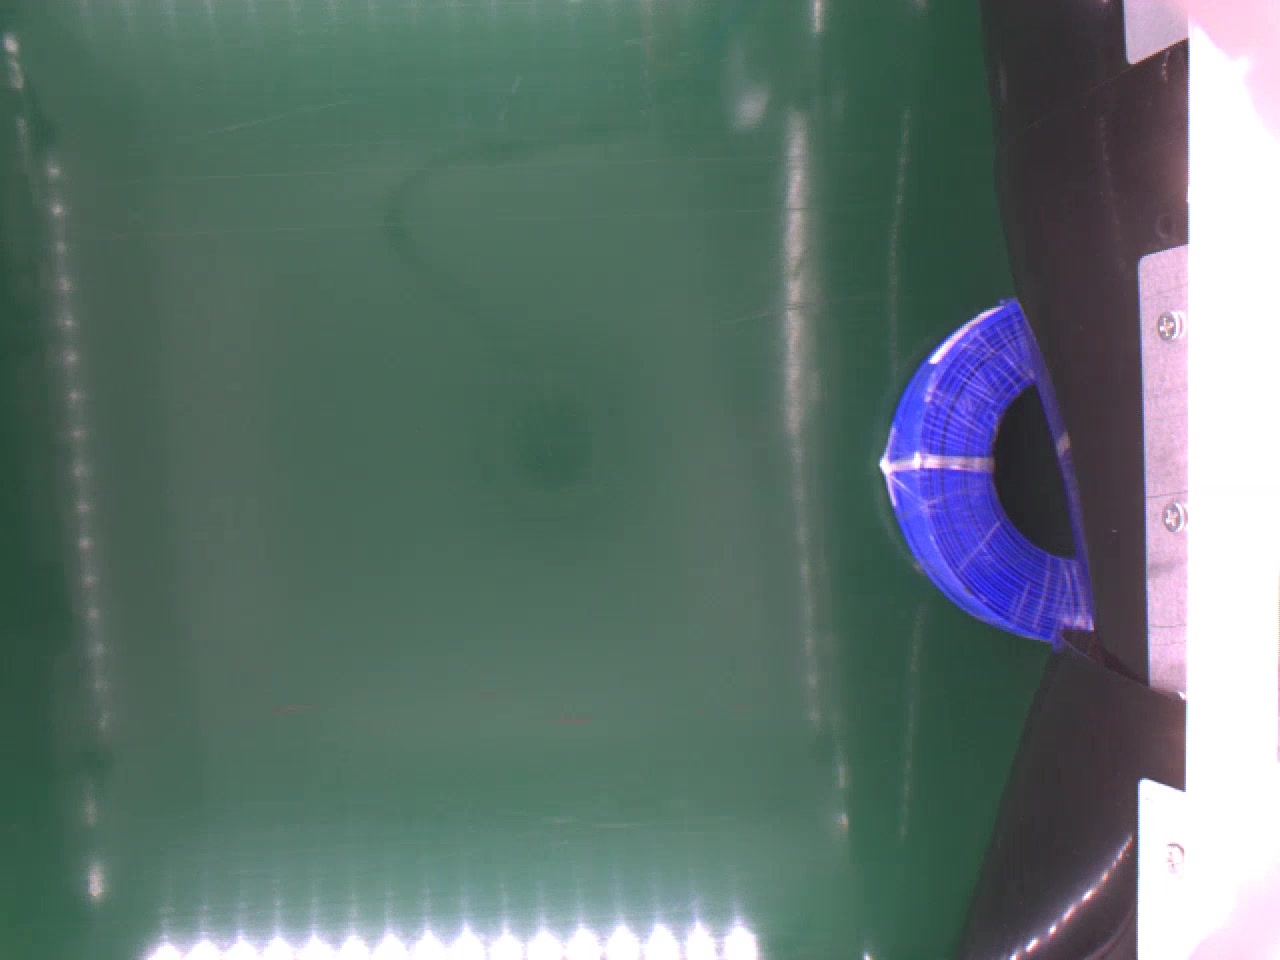blue: (887, 301, 1094, 646)
